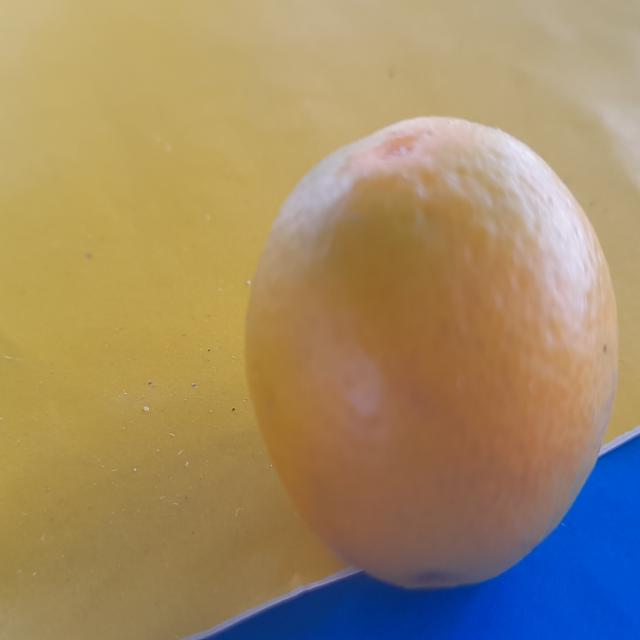greening: (240, 109, 637, 578)
